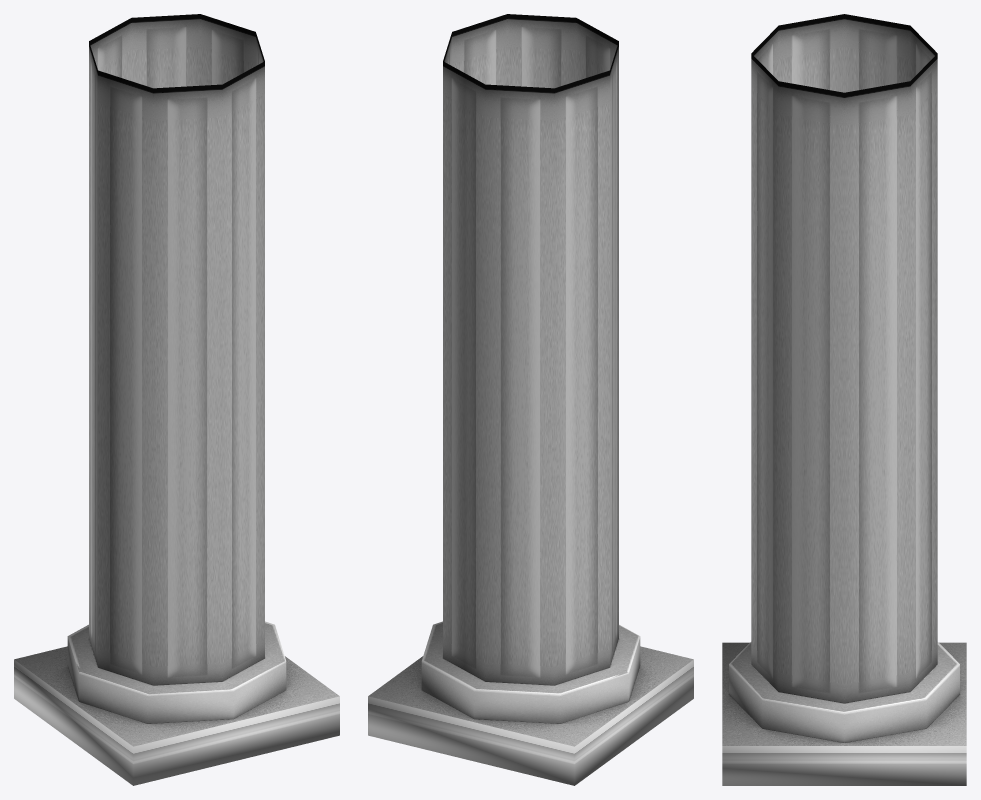
File: collumn.fbx
The picture shows the model from 3 angles, left to right: view 1: azimuth 30°, elevation 25°; view 2: azimuth 150°, elevation 25°; view 3: azimuth 270°, elevation 25°; orthographic projection. The views are drawn at different scales.
Visible parts, largest first — view 1: Cylinder, Cube; view 2: Cylinder, Cube; view 3: Cylinder, Cube.
Boxes of the visible parts, left/top/right/bottom form: Cylinder: left=89, top=14, right=264, bottom=685; Cube: left=14, top=621, right=339, bottom=785; Cylinder: left=443, top=14, right=618, bottom=685; Cube: left=368, top=621, right=693, bottom=785; Cylinder: left=751, top=14, right=937, bottom=703; Cube: left=722, top=642, right=966, bottom=785.
Bounding box in the file's own units: 2 × 6.16 × 2.
